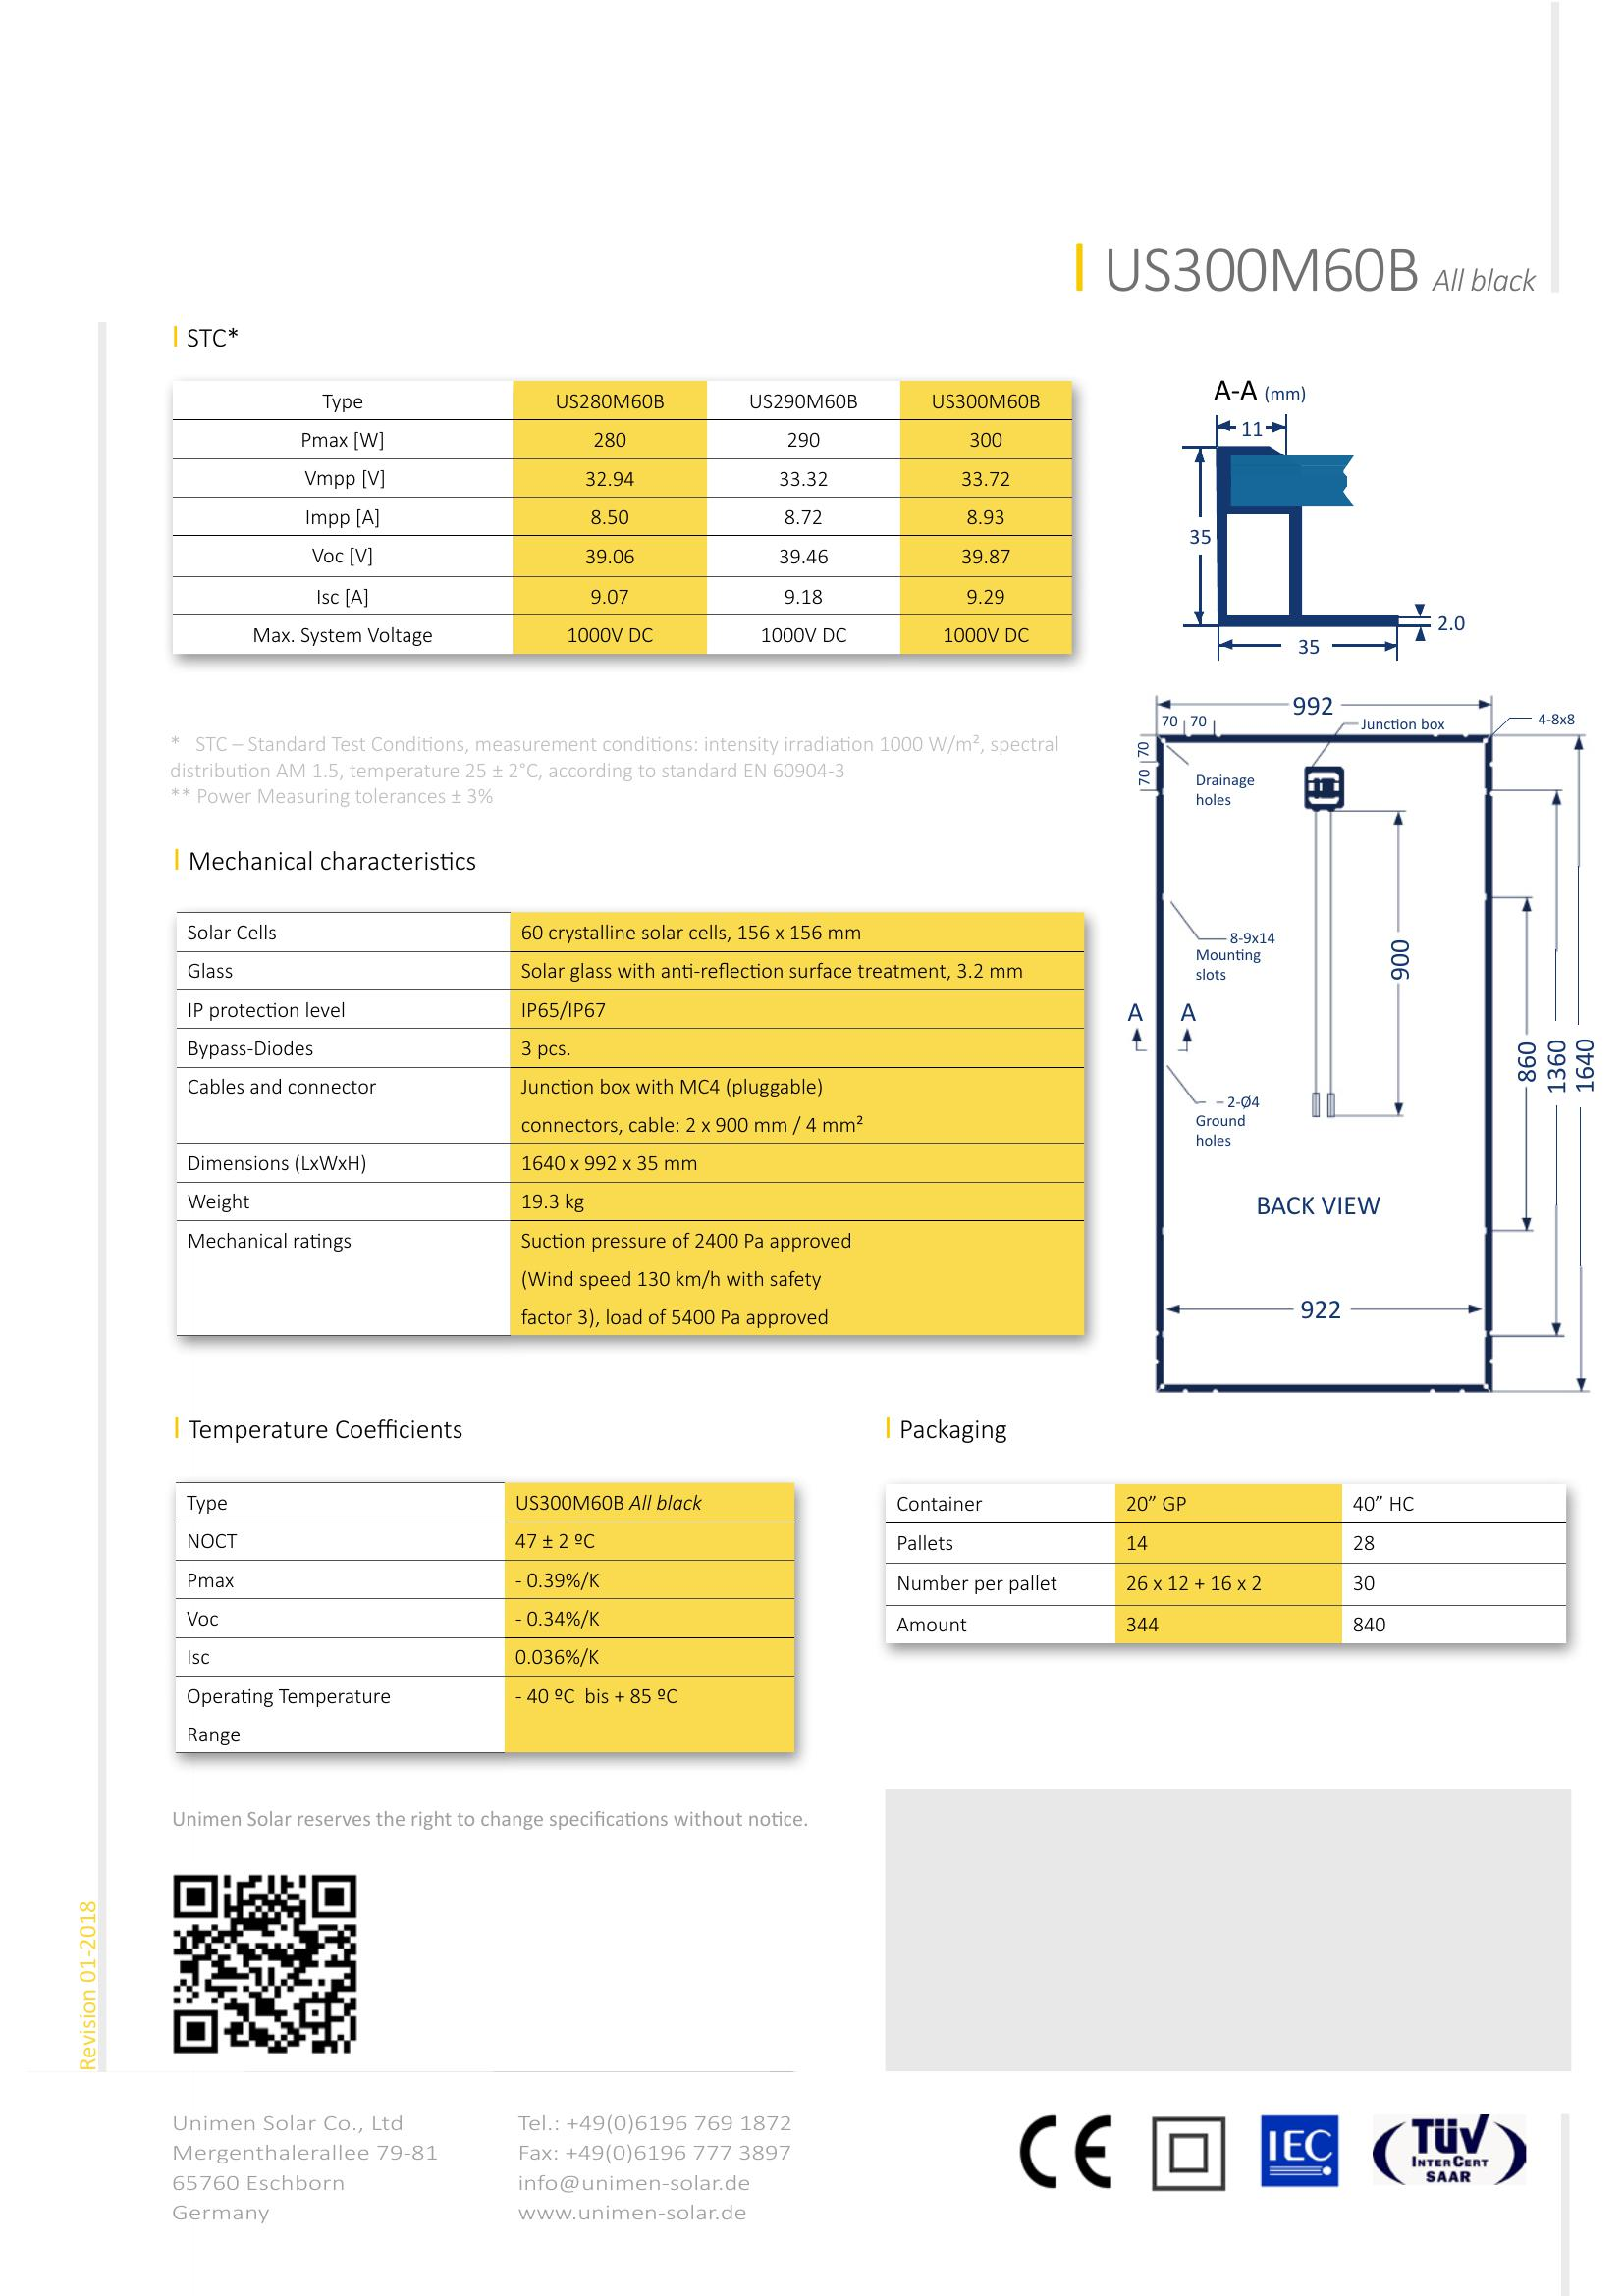table: (162, 903, 1109, 1358), (160, 365, 1091, 666), (160, 1465, 817, 1767), (872, 1476, 1587, 1667)
